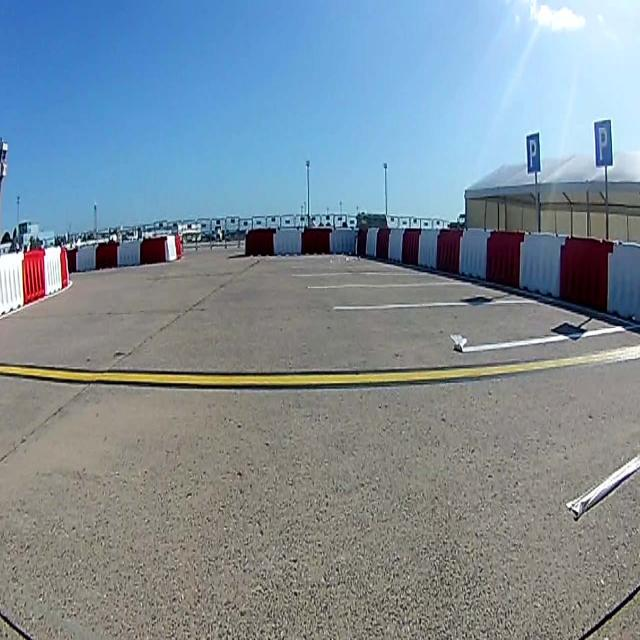park: (594, 120, 613, 168), (525, 132, 540, 174)
